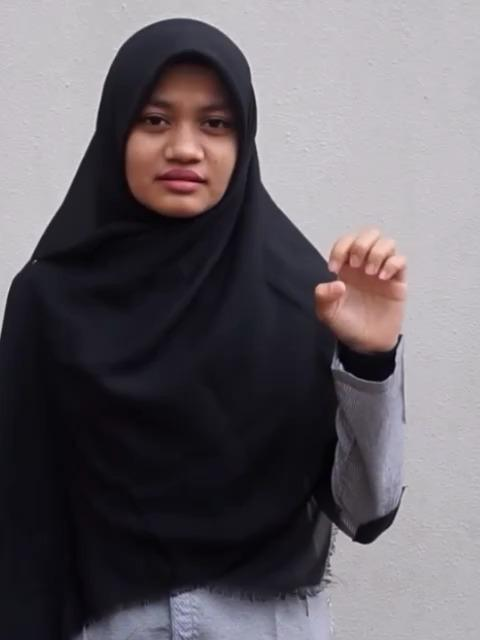E: (312, 225, 404, 341)
